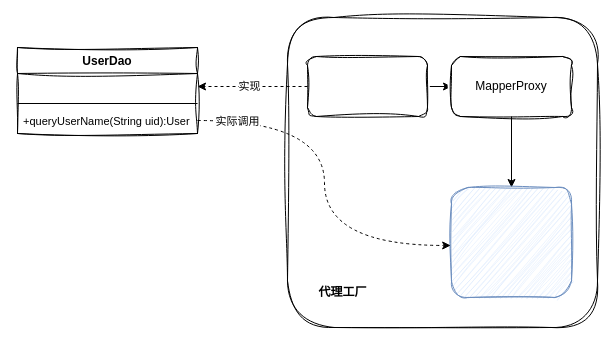
This 615x345 diagram has some shape labels left out. The shapes that lost their labels are listed below. From the top down, each one's box as (x1, y1, x2, y2) in pixels, then its label:
(306, 56, 428, 116): MapperProxyFactory
(450, 186, 572, 298): 包装Mapper方法
